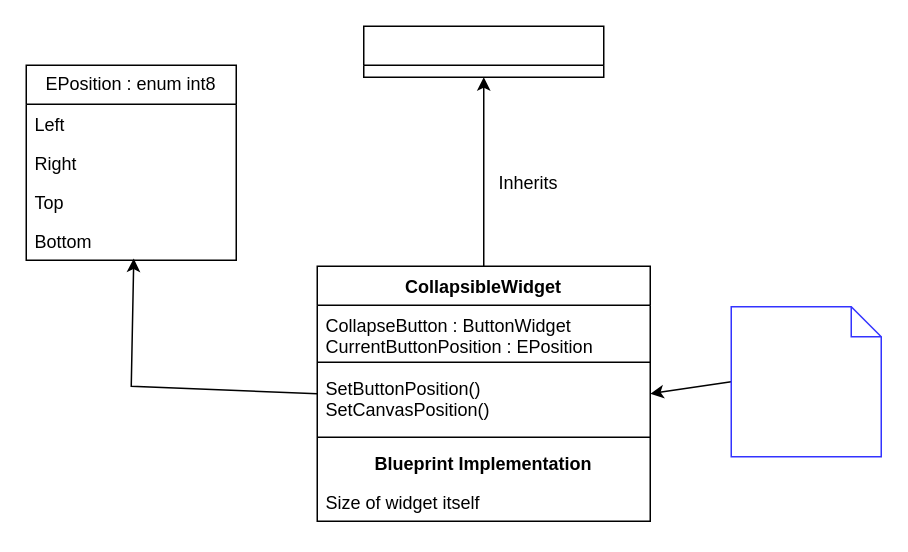
The diagram is 908 pixels wide and 552 high, and some of its shapes have lost their labels. Here are the shapes that lost their labels. From the top down, the centre of each, then its label:
the point at 483,51: CanvasPanel
the point at 805,381: Button position is set based on how widget is collapsed
